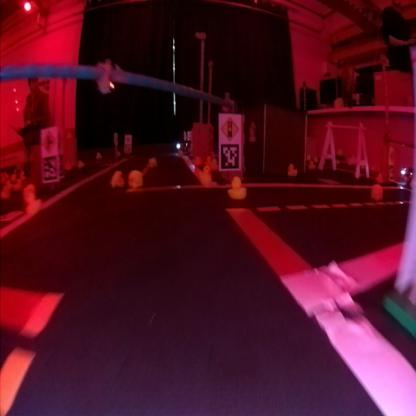Duckie: (230, 178, 246, 198), (112, 170, 125, 186), (130, 170, 142, 186), (288, 164, 295, 174)
QR code: (44, 154, 60, 182), (224, 144, 240, 170)
Signal sign: (220, 114, 242, 142)
